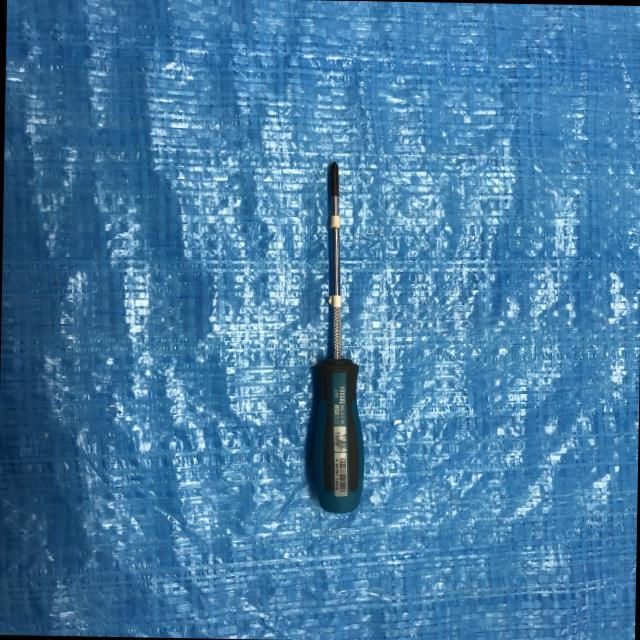screwdriver: (285, 158, 376, 544)
